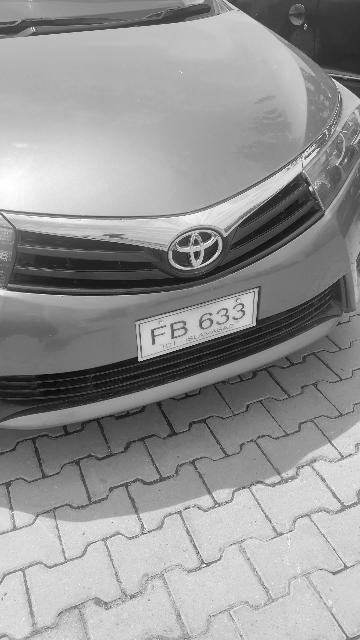Number: (145, 296, 248, 350)
